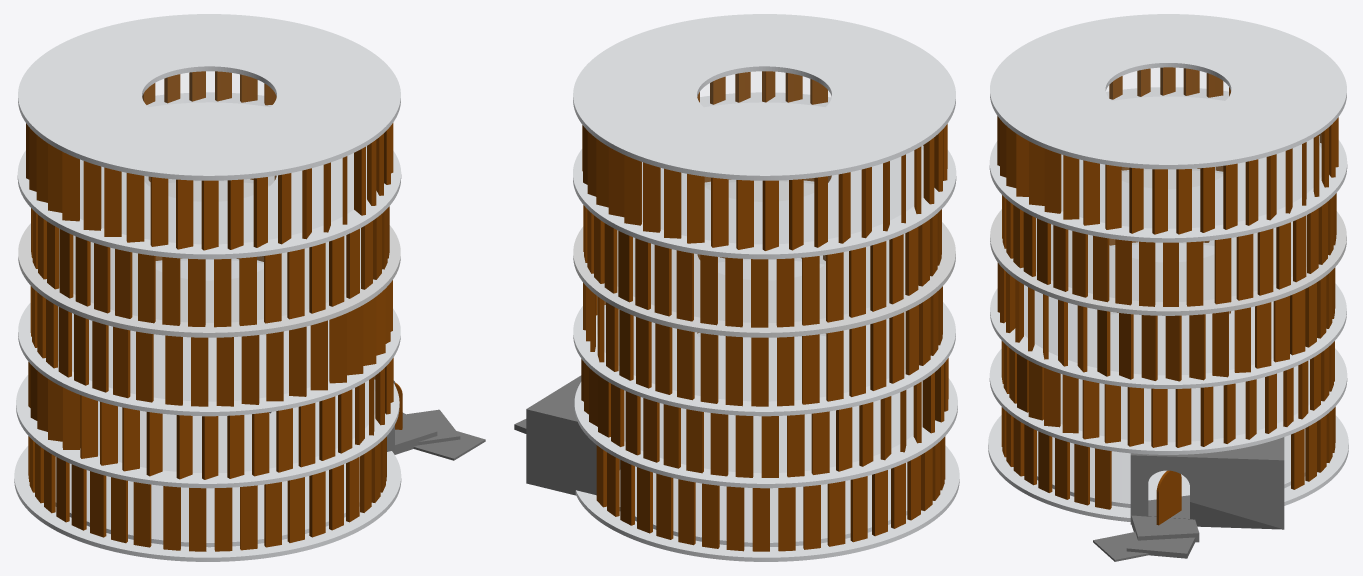
Rendered from studio.glb.
The picture shows the model from 3 angles, left to right: view 1: azimuth 30°, elevation 25°; view 2: azimuth 150°, elevation 25°; view 3: azimuth 270°, elevation 25°; orthographic projection. The views are drawn at different scales.
Visible parts, largest first — view 1: floor 5 celieng.001, floor 4 celieng.001, floor 3 celieng.001, floor 1 celieng.001, floor 2 celieng.001, floor 5 glass.001, foundation.001, floor one.001, floor 2 glass.001, floor 3 glass.001, floor 4 glass.001, floor 1 glass.001 (+83 smaller); view 2: floor 5 celieng.001, floor 4 celieng.001, floor 1 celieng.001, floor 2 celieng.001, floor 3 celieng.001, floor 5 glass.001, door structure.001, foundation.001, floor one.001, floor 2 glass.001, floor 4 glass.001, floor 3 glass.001 (+81 smaller); view 3: floor 5 celieng.001, floor 4 celieng.001, floor 2 celieng.001, floor 1 celieng.001, door structure.001, floor 3 celieng.001, floor 5 glass.001, floor 3 glass.001, foundation.001, floor 2 glass.001, floor 4 glass.001, floor one.001 (+80 smaller).
Part boxes in pixels (<box>): floor 5 celieng.001: <box>18,14,400,180</box>; floor 4 celieng.001: <box>17,92,401,259</box>; floor 3 celieng.001: <box>18,176,400,337</box>; floor 1 celieng.001: <box>16,334,399,488</box>; floor 2 celieng.001: <box>18,258,400,416</box>; floor 5 glass.001: <box>80,72,366,243</box>; foundation.001: <box>14,446,401,561</box>; floor one.001: <box>55,411,359,547</box>; floor 2 glass.001: <box>98,376,374,472</box>; floor 3 glass.001: <box>72,314,328,400</box>; floor 4 glass.001: <box>74,229,360,322</box>; floor 1 glass.001: <box>70,464,345,541</box>; floor 5 celieng.001: <box>573,14,955,180</box>; floor 4 celieng.001: <box>573,92,956,259</box>; floor 1 celieng.001: <box>574,333,957,488</box>; floor 2 celieng.001: <box>573,255,955,416</box>; floor 3 celieng.001: <box>573,179,955,337</box>; floor 5 glass.001: <box>642,72,923,243</box>; door structure.001: <box>526,375,620,495</box>; foundation.001: <box>575,445,959,561</box>; floor one.001: <box>619,411,907,546</box>; floor 2 glass.001: <box>641,387,912,472</box>; floor 4 glass.001: <box>633,234,904,322</box>; floor 3 glass.001: <box>597,296,888,400</box>; floor 5 celieng.001: <box>990,14,1346,169</box>; floor 4 celieng.001: <box>989,87,1347,242</box>; floor 2 celieng.001: <box>990,240,1346,388</box>; floor 1 celieng.001: <box>989,311,1347,454</box>; door structure.001: <box>1130,437,1284,529</box>; floor 3 celieng.001: <box>990,167,1346,315</box>; floor 5 glass.001: <box>1062,68,1321,228</box>; floor 3 glass.001: <box>1024,286,1272,374</box>; foundation.001: <box>988,415,1348,521</box>; floor 2 glass.001: <box>1061,360,1309,441</box>; floor 4 glass.001: <box>1036,219,1292,301</box>; floor one.001: <box>1037,385,1305,507</box>.
Bounding box in the file's own units: 57.06 × 50.51 × 45.89.
